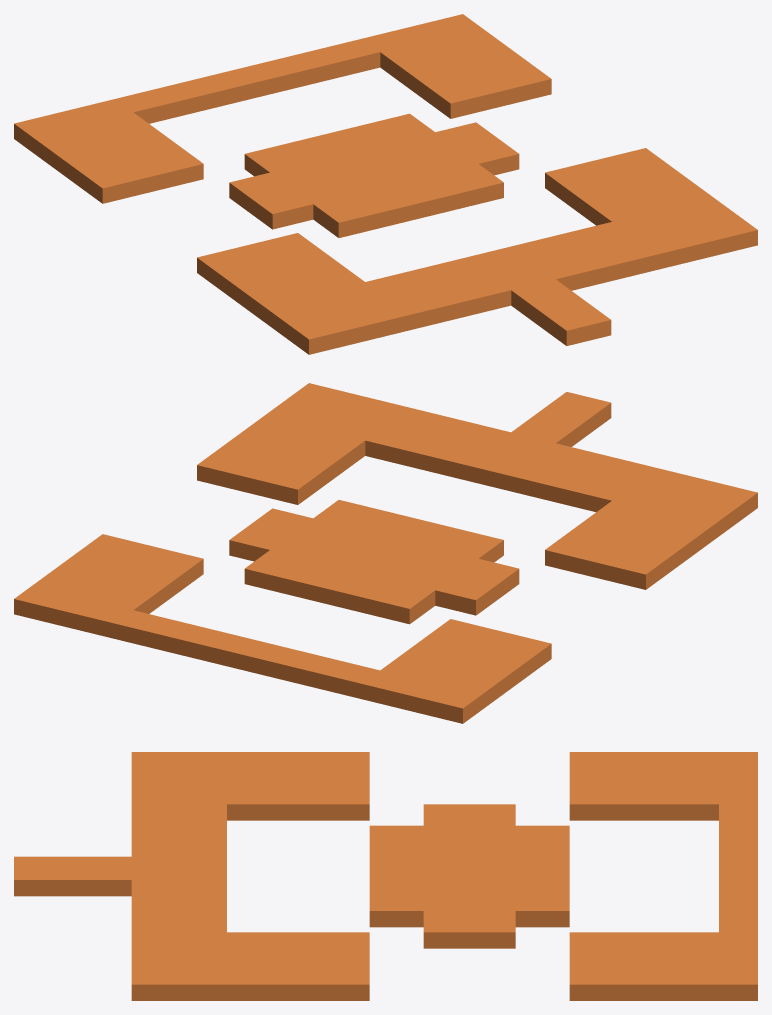
File: Castelo_Chao.fbx
3 views of the same model, one above another, from view 1: azimuth 30°, elevation 25°; view 2: azimuth 150°, elevation 25°; view 3: azimuth 270°, elevation 25° (orthographic). The views are drawn at different scales.
Parts seen in each view (by area): view 1: Floor; view 2: Floor; view 3: Floor.
Part boxes in pixels (x1,y1,x2,y2): Floor: (14,14,757,354); Floor: (14,383,757,723); Floor: (14,752,757,1000).
Bounding box in the file's own units: 38129 × 1250 × 51558.
